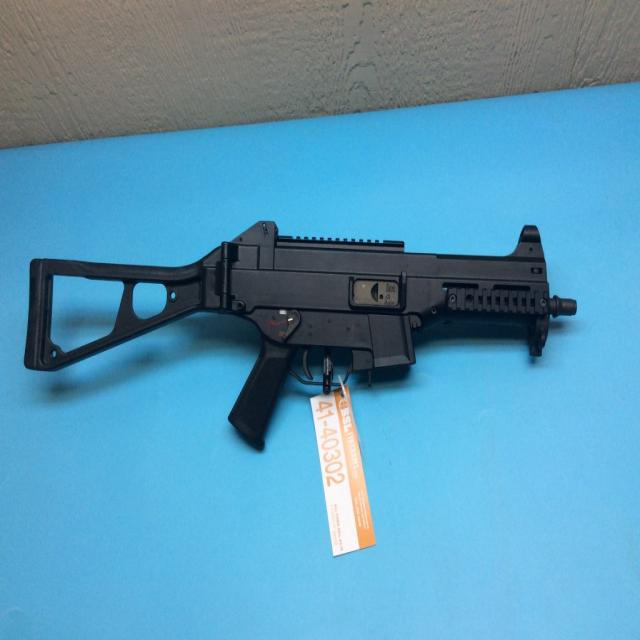SMG: (23, 222, 578, 455)
